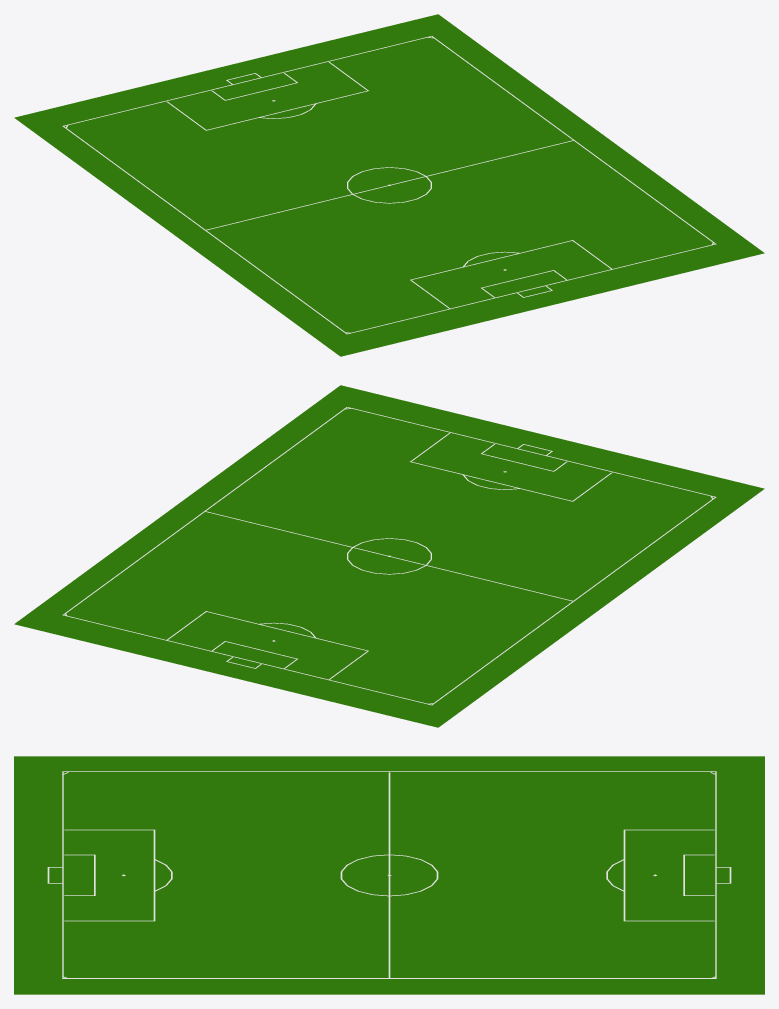
Rendered from Football pitch.fbx.
3 renders of one model, top to bottom at view 1: azimuth 30°, elevation 25°; view 2: azimuth 150°, elevation 25°; view 3: azimuth 270°, elevation 25°, orthographic. The views are drawn at different scales.
Visible parts, largest first — view 1: Football pitch; view 2: Football pitch; view 3: Football pitch.
Boxes of the visible parts, x1,y1,x2,y2 form: Football pitch: [14, 14, 764, 356]; Football pitch: [14, 385, 764, 727]; Football pitch: [14, 756, 764, 994].
Size of the model in its own units: 2748 by 2.19 by 3664.
